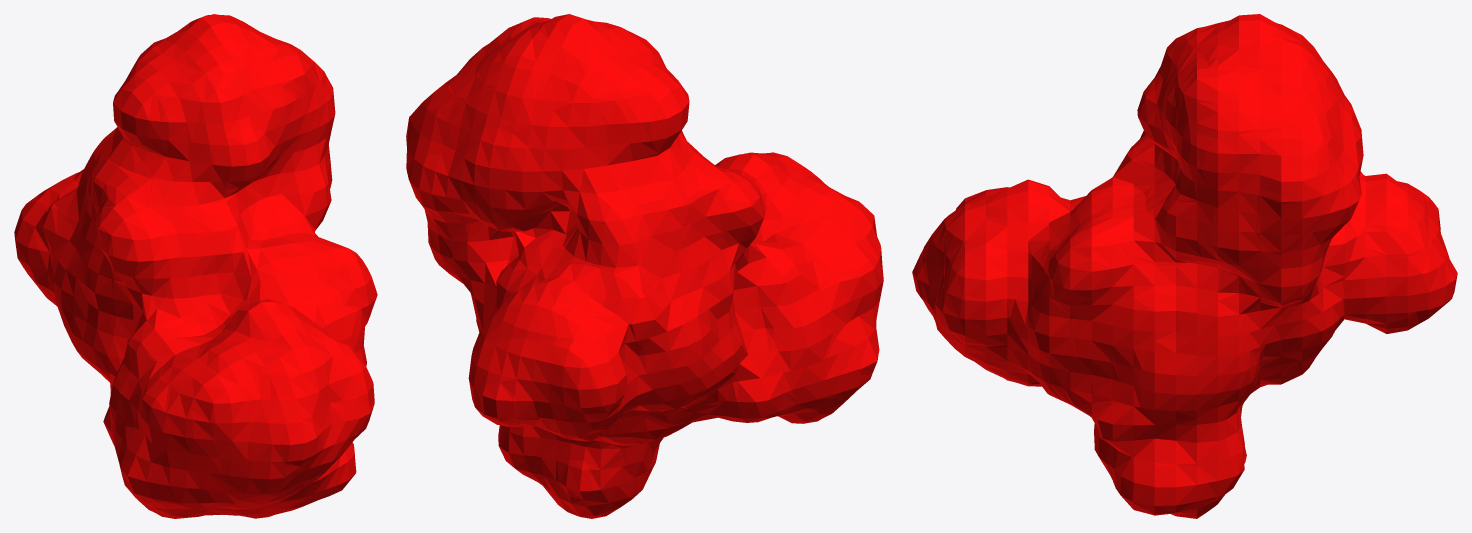
File: nanK_coarse.dae
The picture shows the model from 3 angles, left to right: view 1: azimuth 30°, elevation 25°; view 2: azimuth 150°, elevation 25°; view 3: azimuth 270°, elevation 25°; orthographic projection. The views are drawn at different scales.
Parts seen in each view (by area): view 1: nanK; view 2: nanK; view 3: nanK.
Boxes of the visible parts, x1,y1,x2,y2 form: nanK: [14, 14, 377, 518]; nanK: [406, 14, 883, 518]; nanK: [912, 14, 1457, 518].
Bounding box in the file's own units: 56.57 × 83.69 × 84.47.
